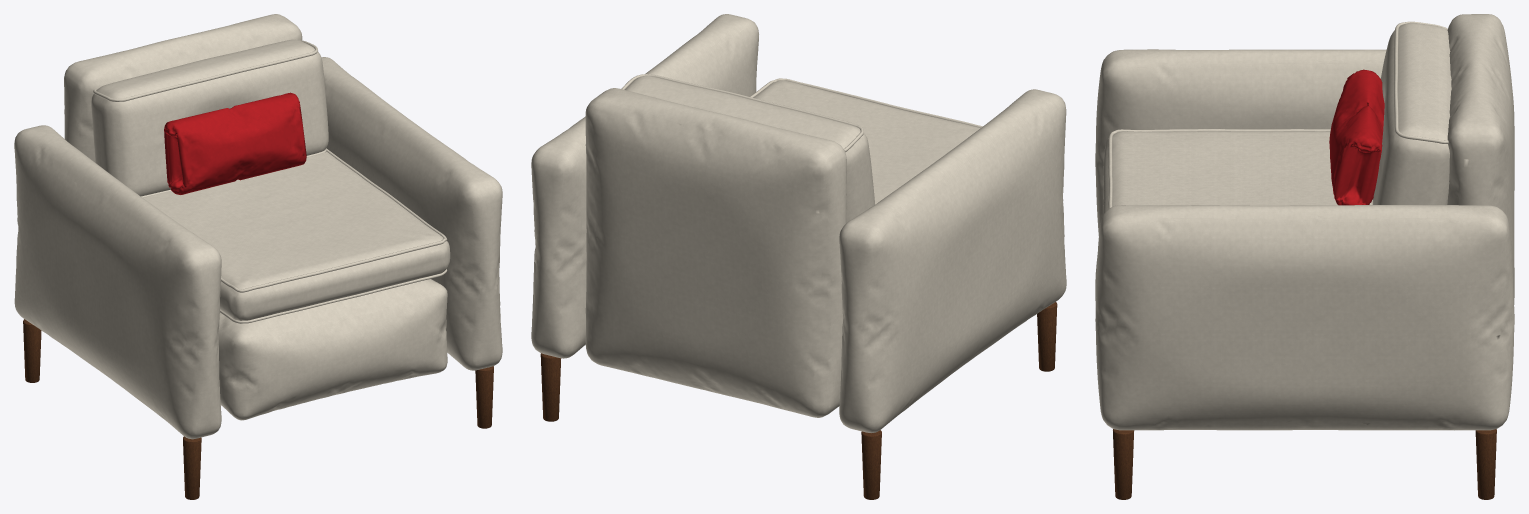
File: sofa.glb
3 renders of one model, left to right at view 1: azimuth 30°, elevation 25°; view 2: azimuth 150°, elevation 25°; view 3: azimuth 270°, elevation 25°, orthographic. The views are drawn at different scales.
Visible parts, largest first — view 1: Armchair; view 2: Armchair; view 3: Armchair.
Part boxes in pixels (bbox=[...]): Armchair: bbox=[14, 14, 502, 499]; Armchair: bbox=[531, 14, 1066, 499]; Armchair: bbox=[1095, 14, 1514, 499].
Size of the model in its own units: 0.8615 by 0.7603 by 0.8208.
Materials: 3 (3 with a texture image).
